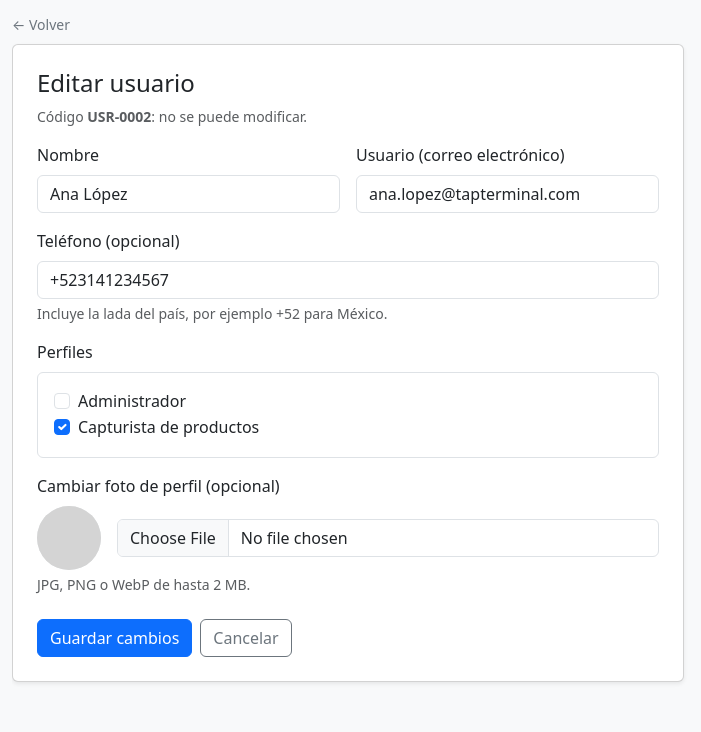
Test: UserFormComponent › edición (/usuarios/:code/editar) › sin foto nueva, solo envía los datos con PUT (JSON)
Clear the field labelled "Teléfono (opcional)". click: (348, 280)
box: x1=37 y1=261 x2=659 y2=299
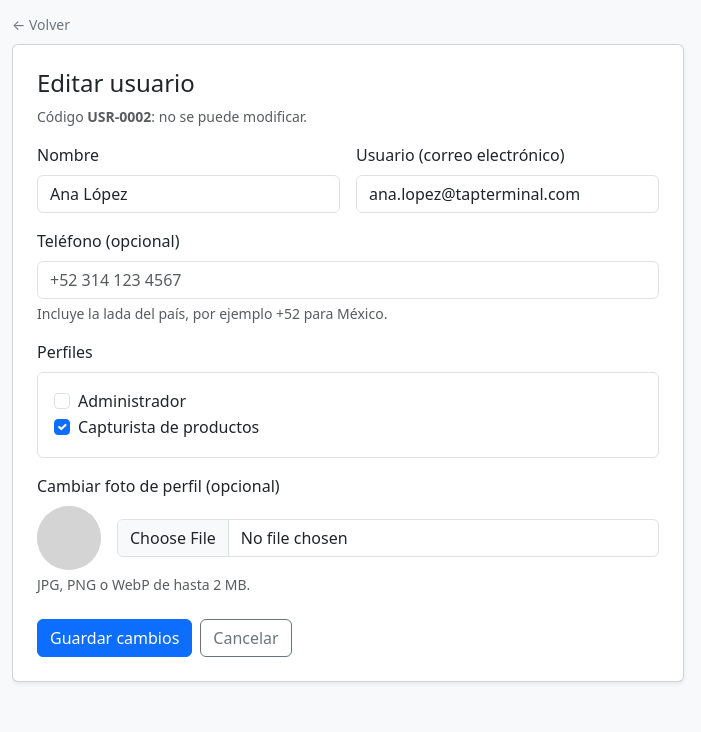
Submit the form
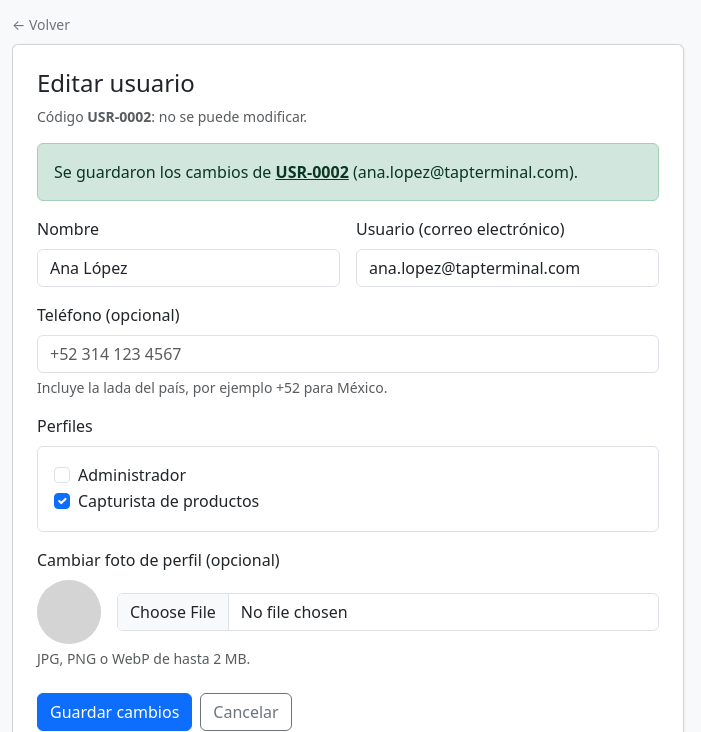
Check: the message with class "alert-success" shows "Se guardaron los cambios de", box x1=54 y1=161 x2=276 y2=183
